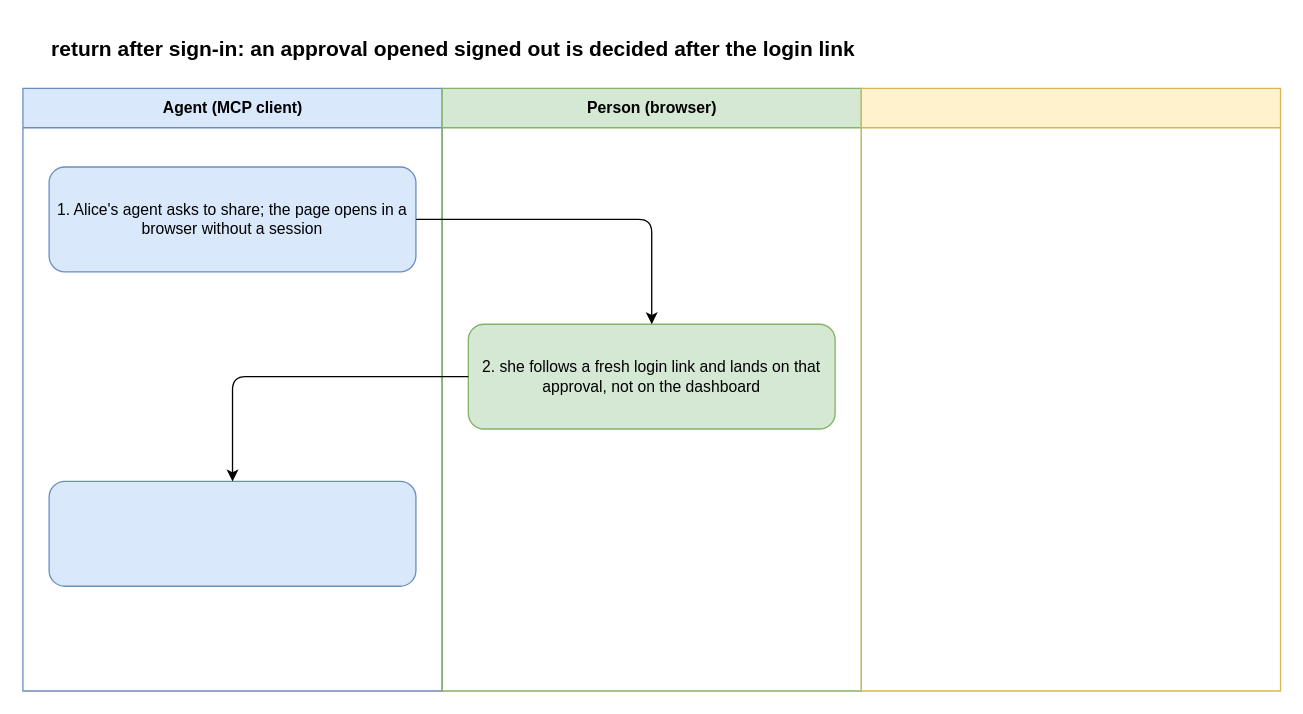
Image size: 1303x714. Some labels were removed from this diagram. Here are the shapes that lost their labels. From the top down, the centre of each, then its label:
At (1070,389): "Relay".
At (232,533): "3. she decides there, and the agent gets the outcome".
